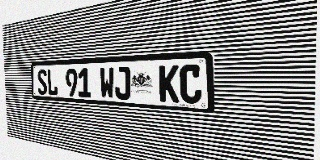1: (77, 68, 91, 98)
9: (65, 68, 78, 97)
C: (179, 64, 202, 104)
J: (114, 66, 131, 100)
K: (159, 65, 179, 103)
L: (47, 69, 58, 96)
S: (37, 69, 47, 95)
W: (99, 67, 114, 99)
